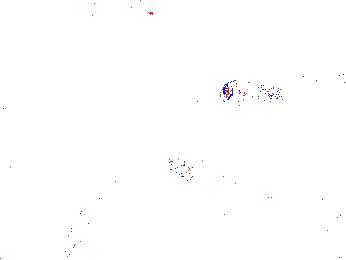X-ray fish: (213, 77, 278, 111)
glassfish: (66, 176, 121, 254), (164, 156, 248, 193)
redtail glassfish: (84, 1, 143, 20)
